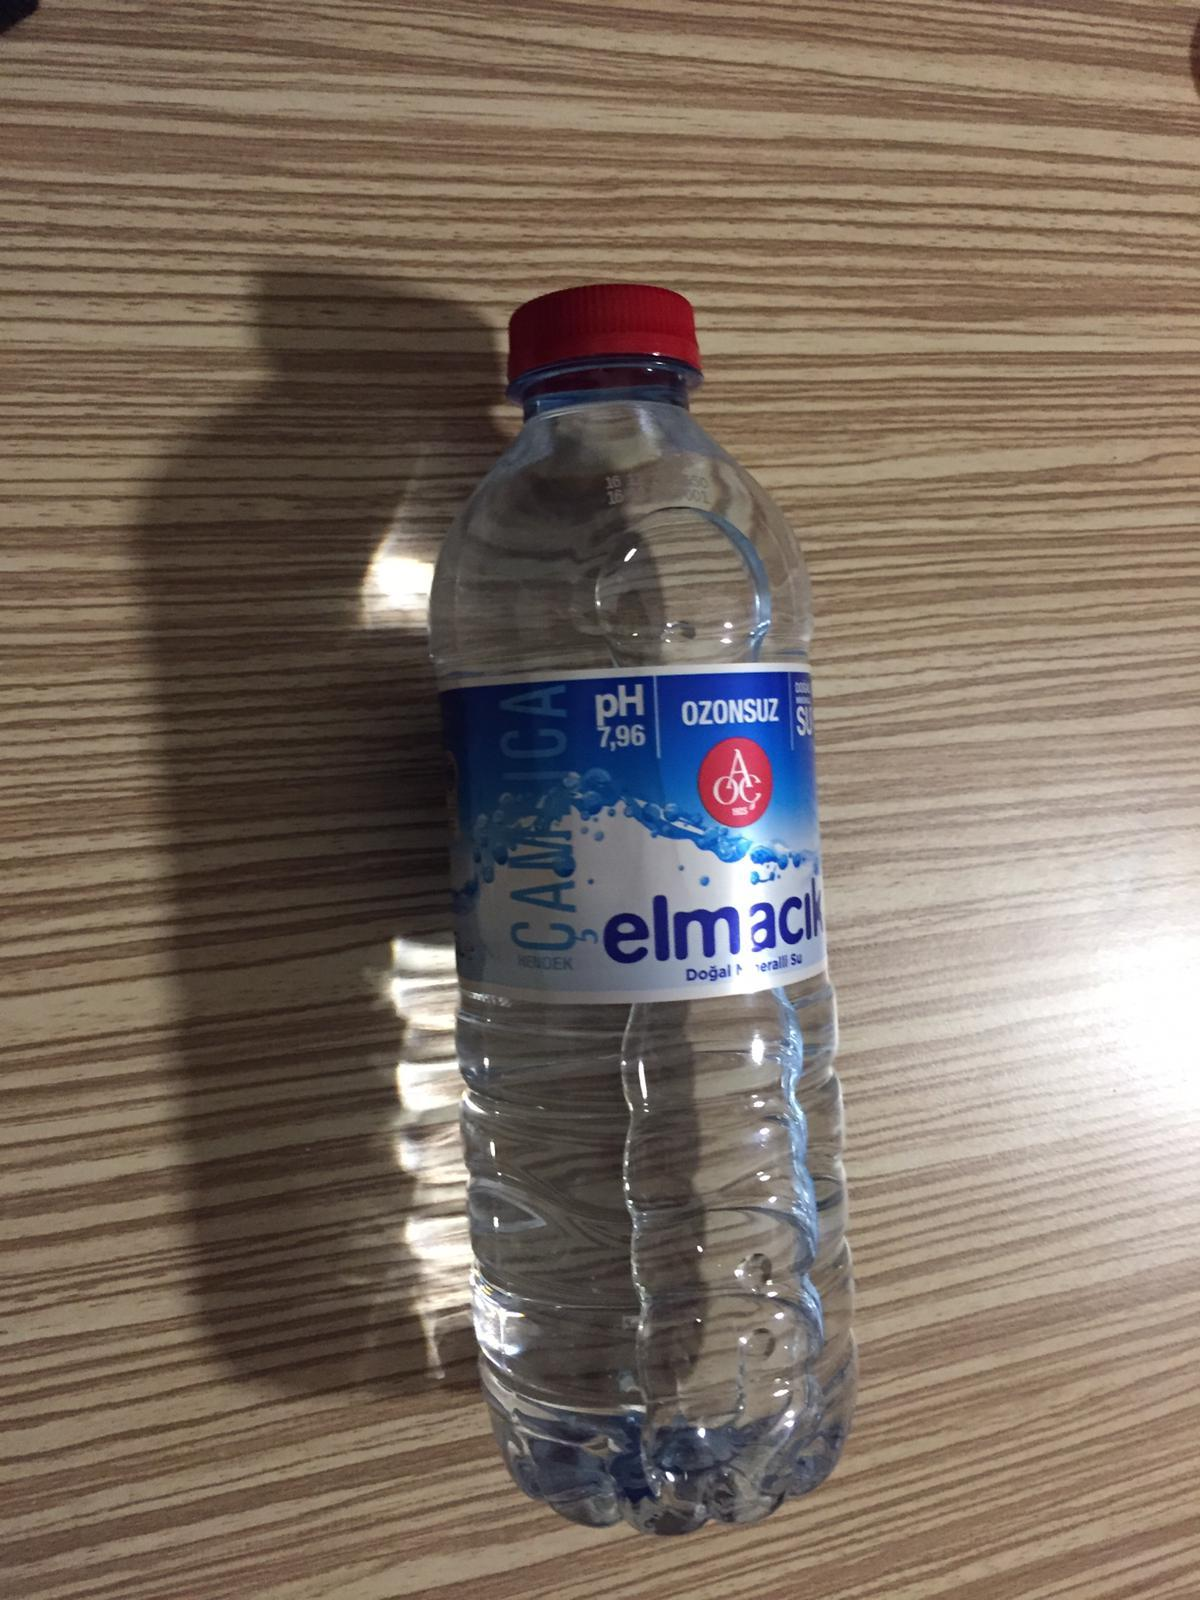bottle: (458, 276, 852, 1527)
